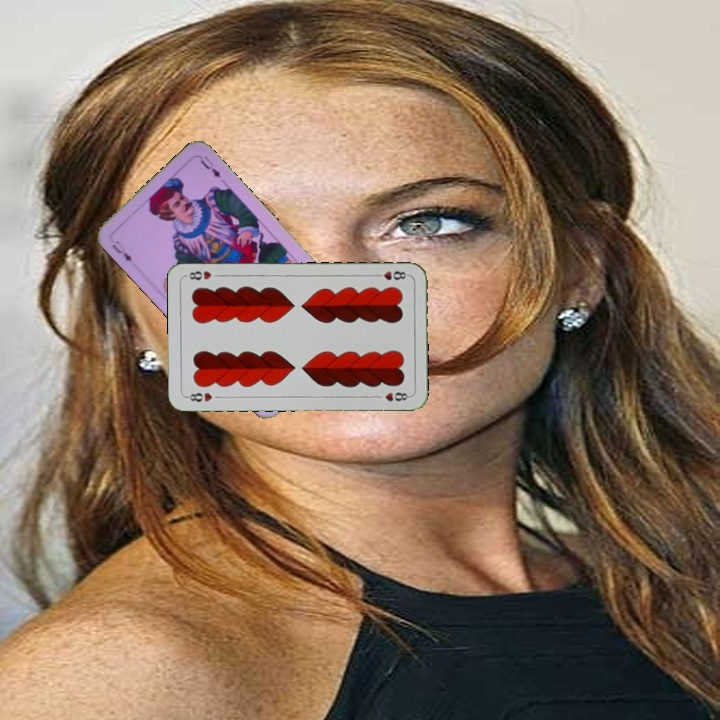EU: (108, 240, 135, 265)
H8: (371, 267, 411, 282), (183, 388, 215, 404)
